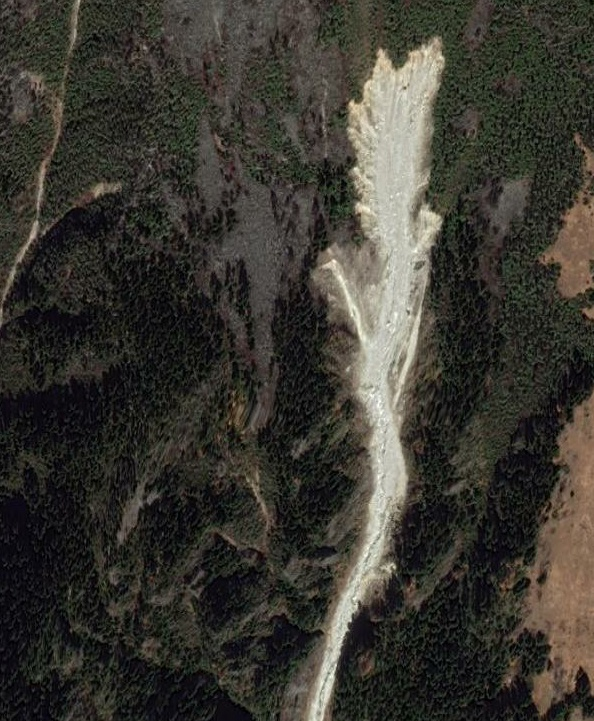slope: (298, 32, 456, 717)
